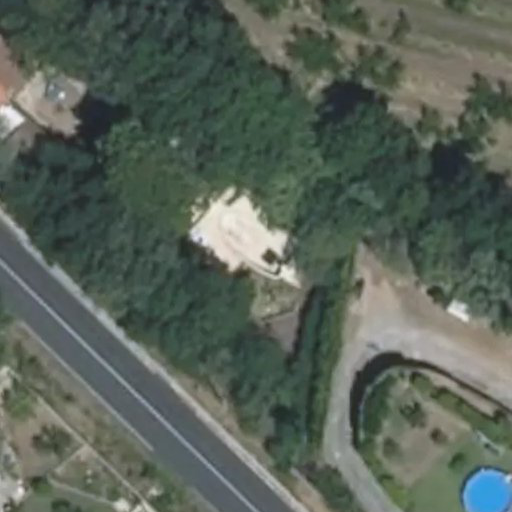pool: (211, 229, 302, 254)
